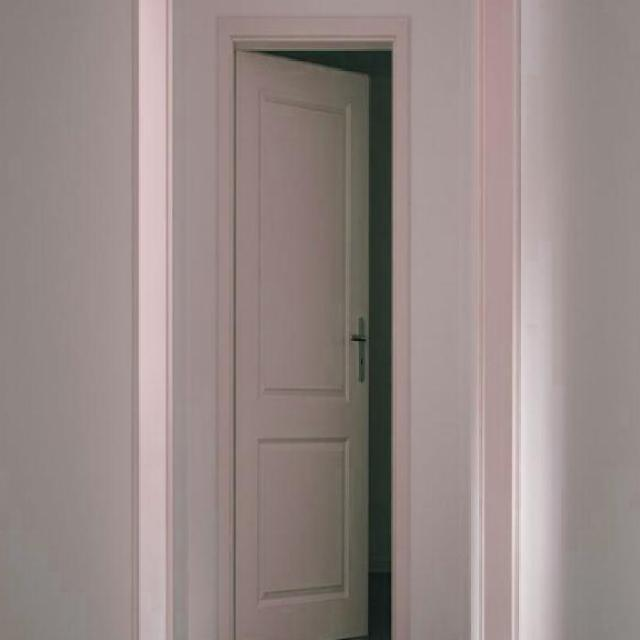door: (231, 49, 371, 638)
